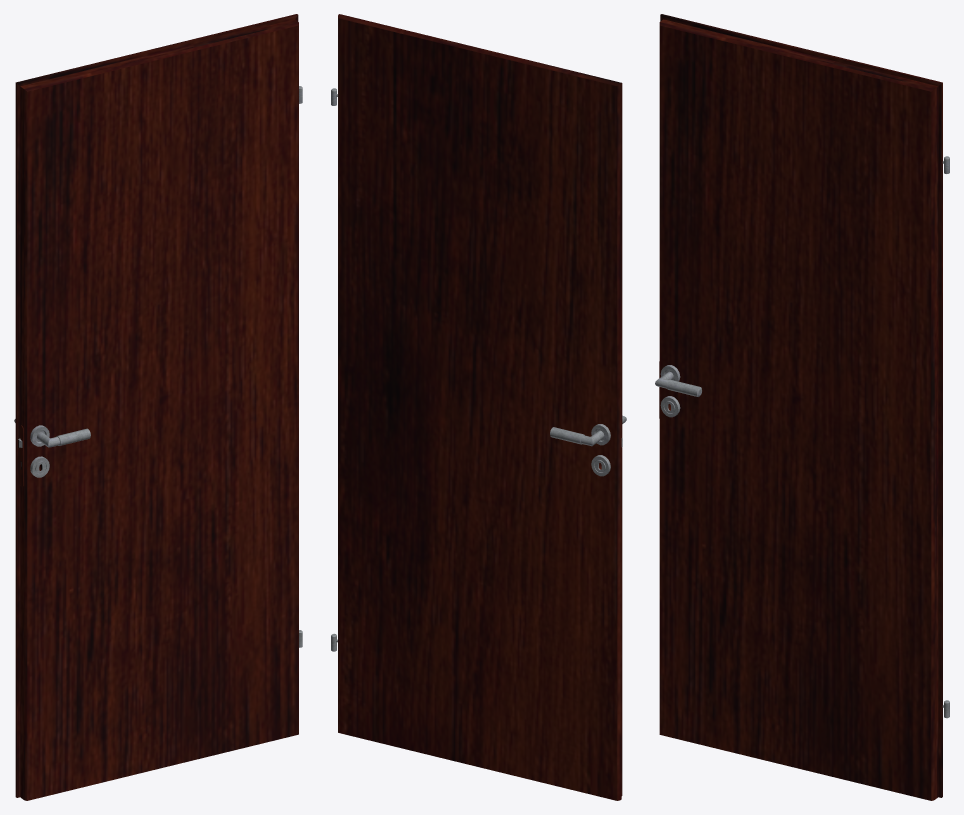
Rendered from door.obj.
The picture shows the model from 3 angles, left to right: view 1: azimuth 30°, elevation 25°; view 2: azimuth 150°, elevation 25°; view 3: azimuth 330°, elevation 25°; orthographic projection.
Visible parts, largest first — view 1: door; view 2: door; view 3: door.
Part boxes in pixels (bbox=[...]): door: bbox=[14, 14, 302, 800]; door: bbox=[331, 14, 626, 800]; door: bbox=[655, 14, 949, 800].
Size of the model in its own units: 0.81 by 1.93 by 0.17.
Materials: 1 (1 with a texture image).
